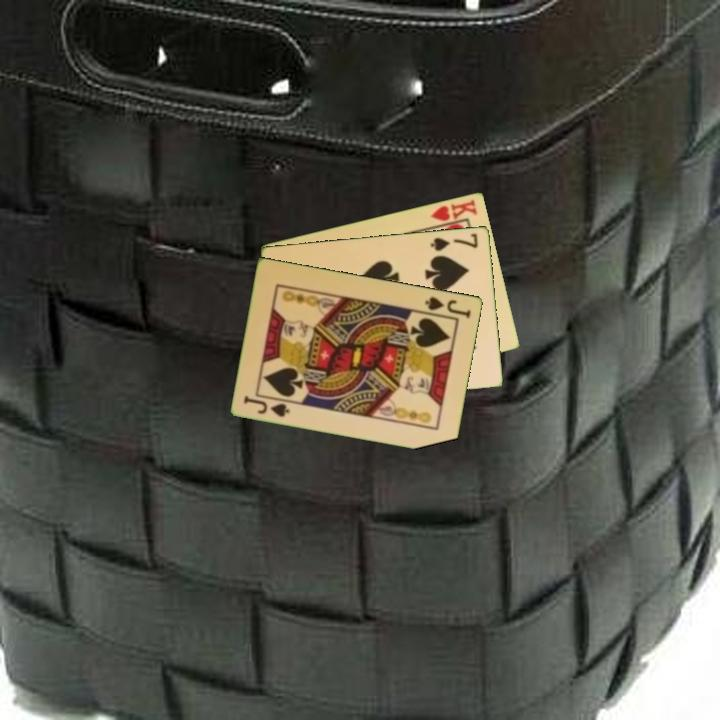7s: (427, 229, 481, 253)
Js: (240, 391, 293, 419), (422, 293, 474, 321)
Kh: (427, 195, 480, 230)
